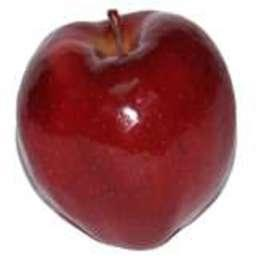apple: (15, 10, 235, 250)
